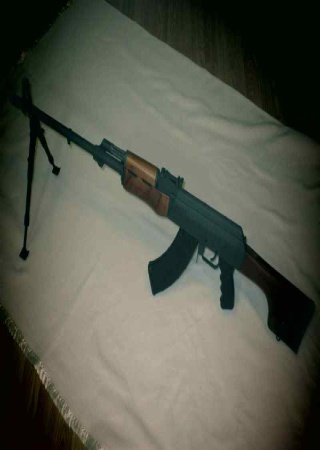rifle: (13, 86, 317, 359)
